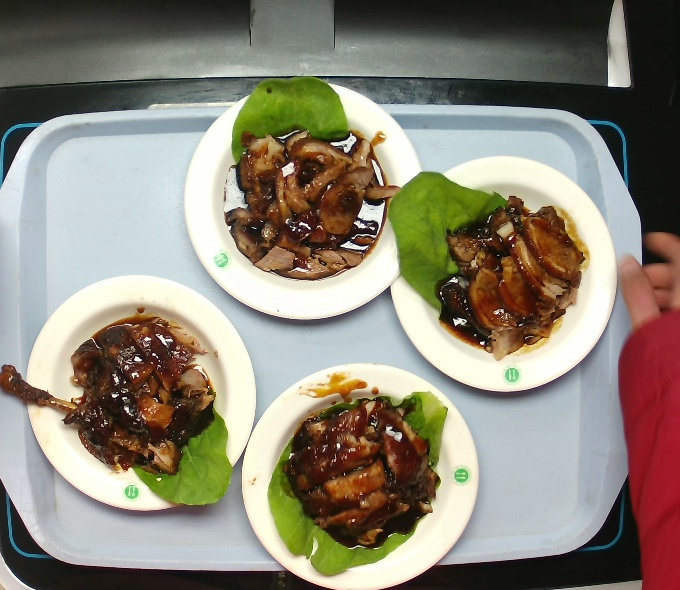wcq-MiZhiYa: (401, 173, 600, 361), (221, 79, 393, 291), (273, 373, 447, 572), (34, 315, 223, 484)
